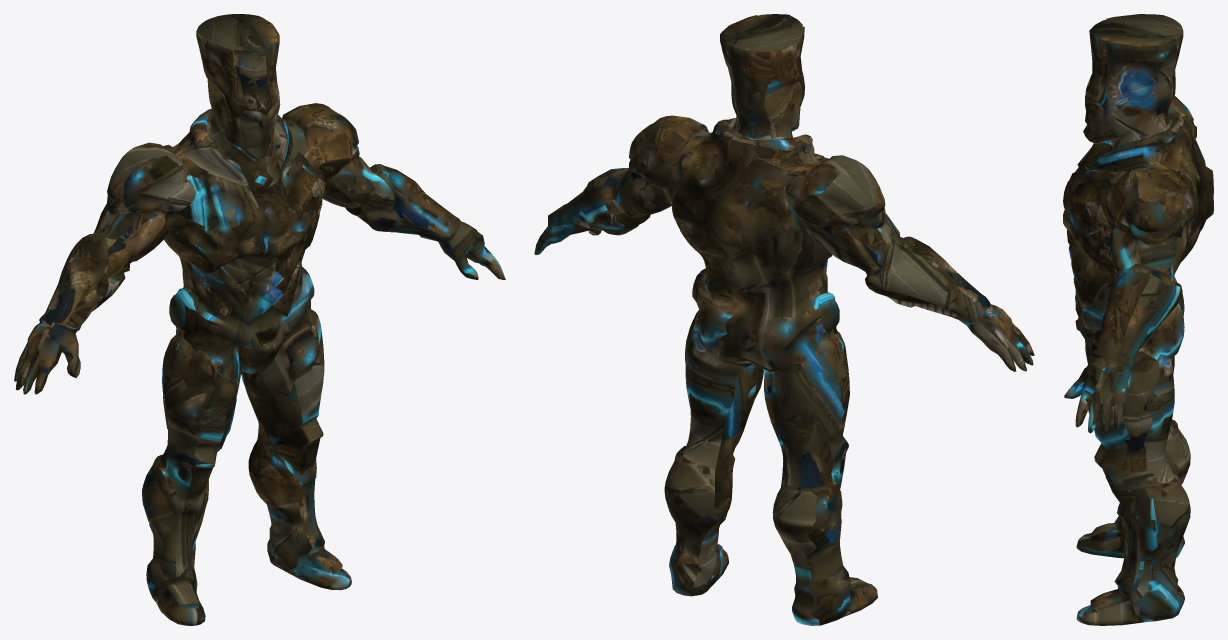
File: KingUnit.fbx
3 views of the same model, side by side, from view 1: azimuth 30°, elevation 25°; view 2: azimuth 150°, elevation 25°; view 3: azimuth 270°, elevation 25° (orthographic).
Visible parts, largest first — view 1: material; view 2: material; view 3: material.
Part boxes in pixels (x1,y1,x2,y2): material: (14,14,505,625); material: (534,14,1034,625); material: (1063,14,1213,625).
Size of the model in its own units: 174 by 190 by 47.06.
